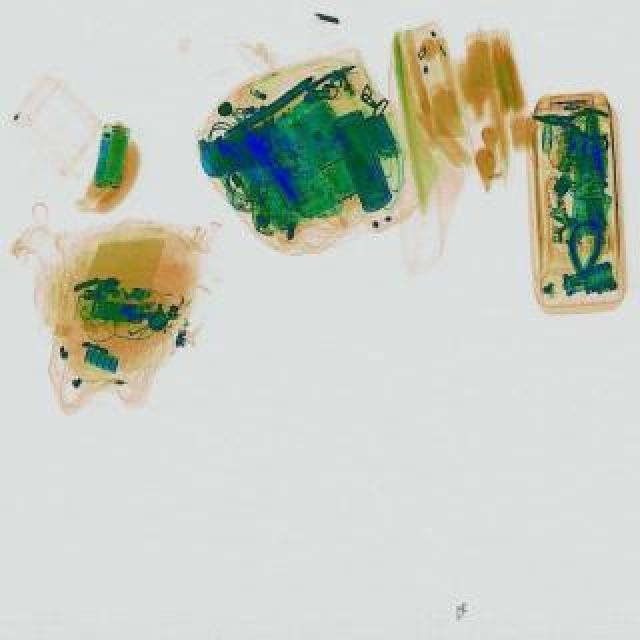wrench: (530, 102, 610, 146)
